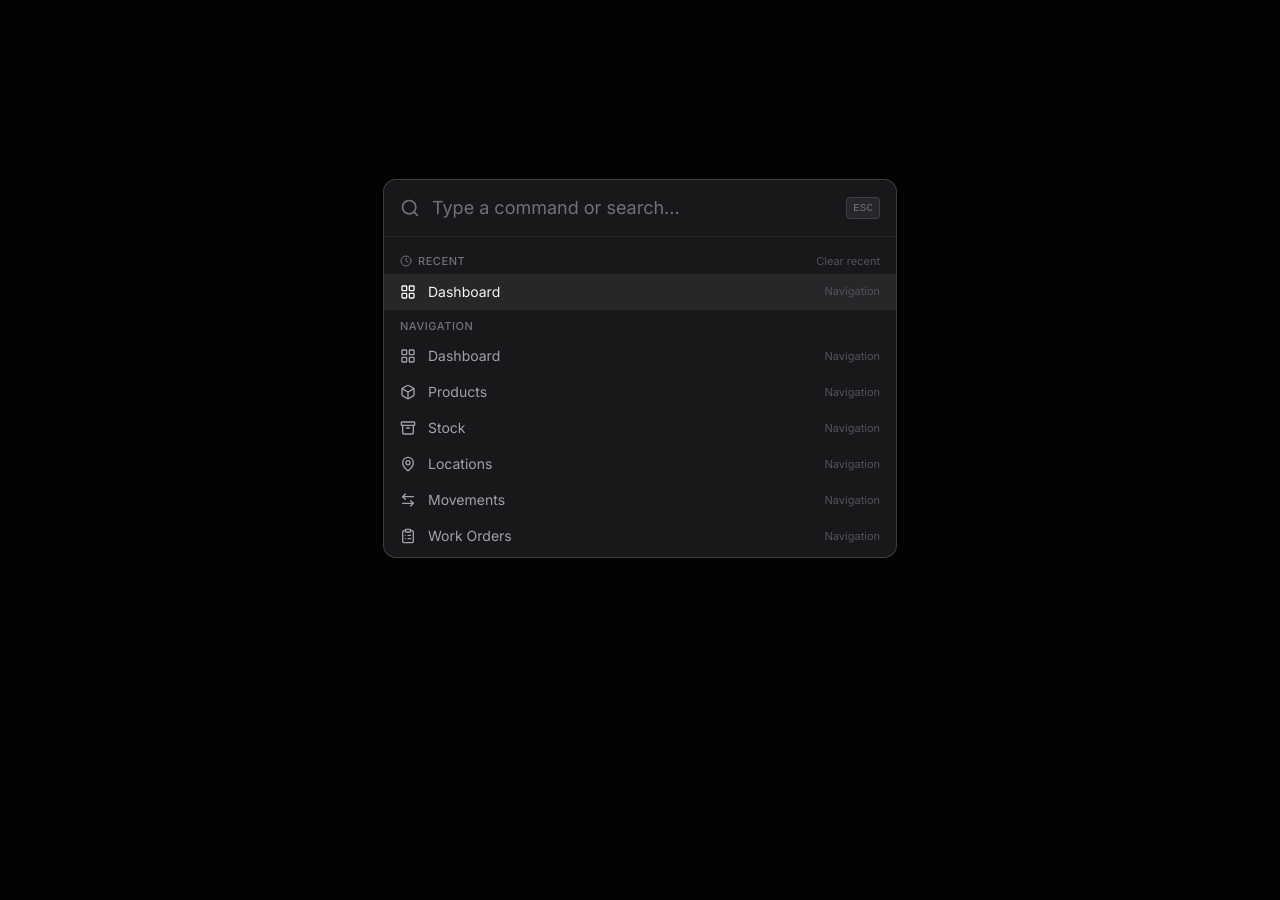
Test: CommandPalette › recent commands › clears recents when clear button clicked
expect the element with test id "recent-commands-section" is shown: met, box [384,245,896,310]
Click the button with test id "clear-recents" at (848, 261), box [816,253,880,270]
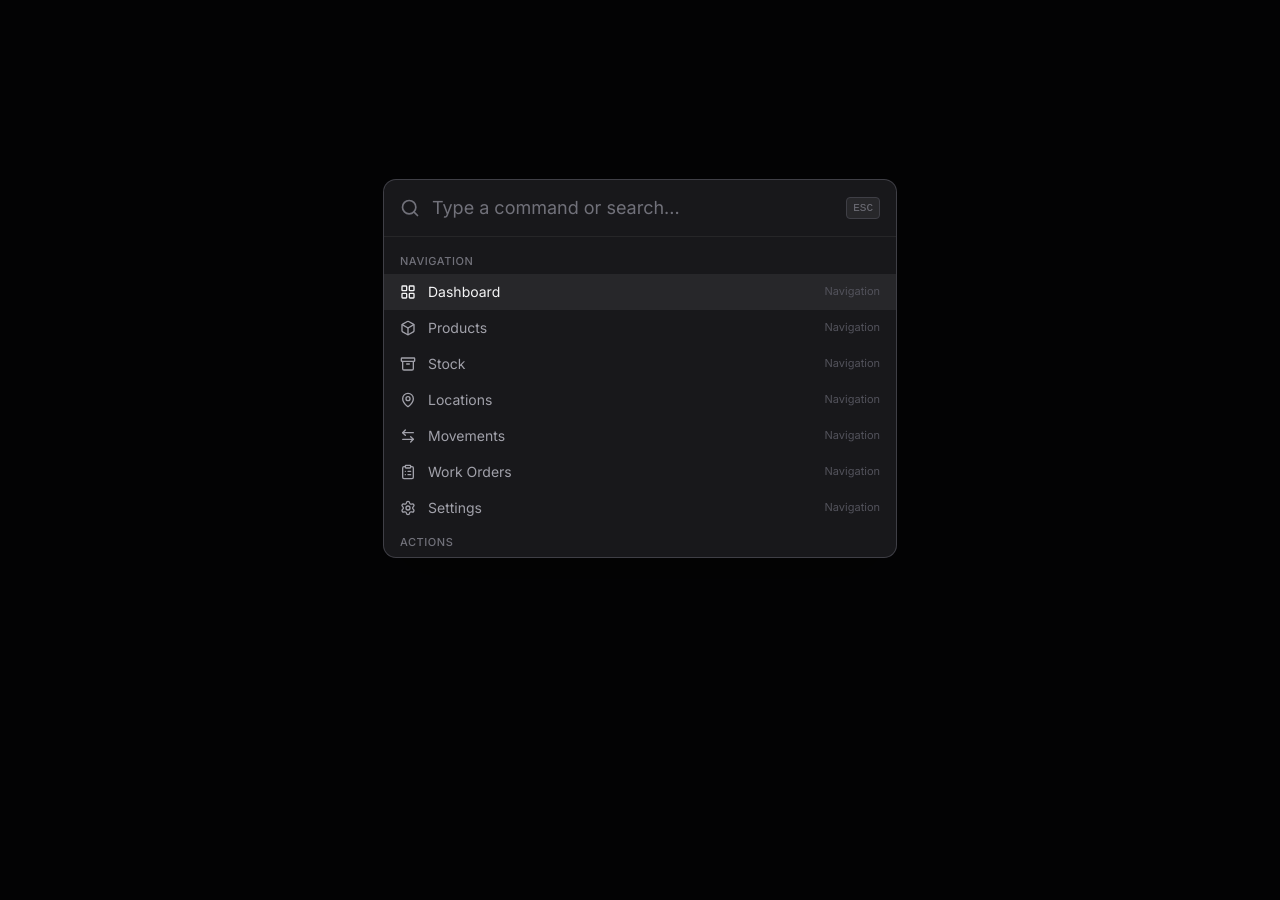
expect the element with test id "recent-commands-section" is gone: met
